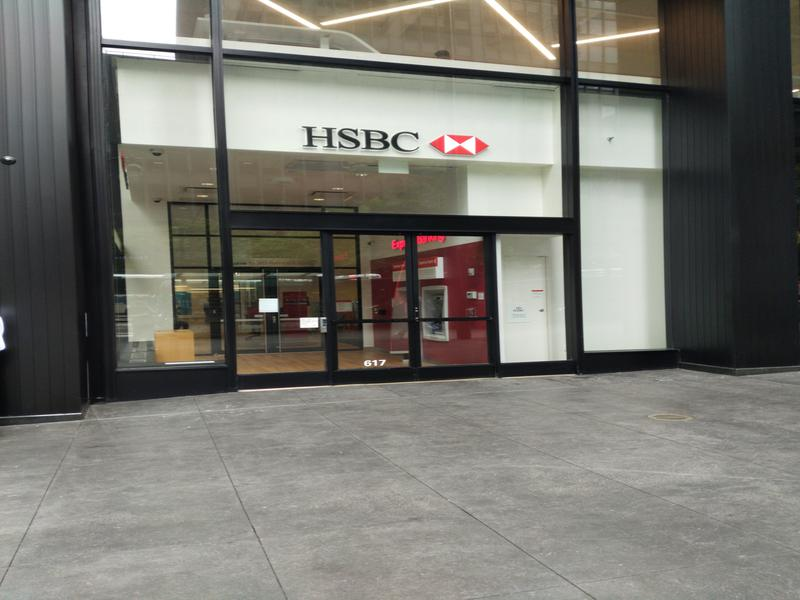double_door: (321, 223, 510, 385)
